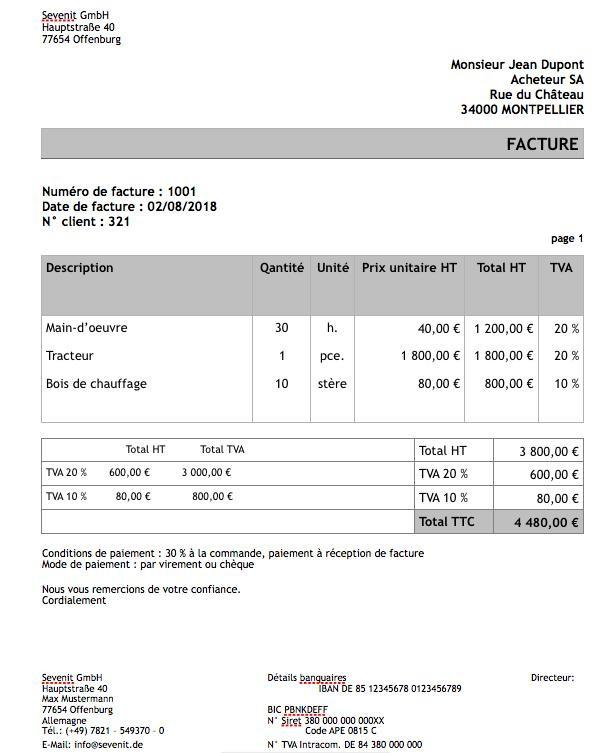ROI: (41, 255, 584, 423), (41, 438, 583, 534), (264, 668, 464, 753), (37, 670, 174, 753), (448, 52, 590, 120), (40, 182, 221, 233)
